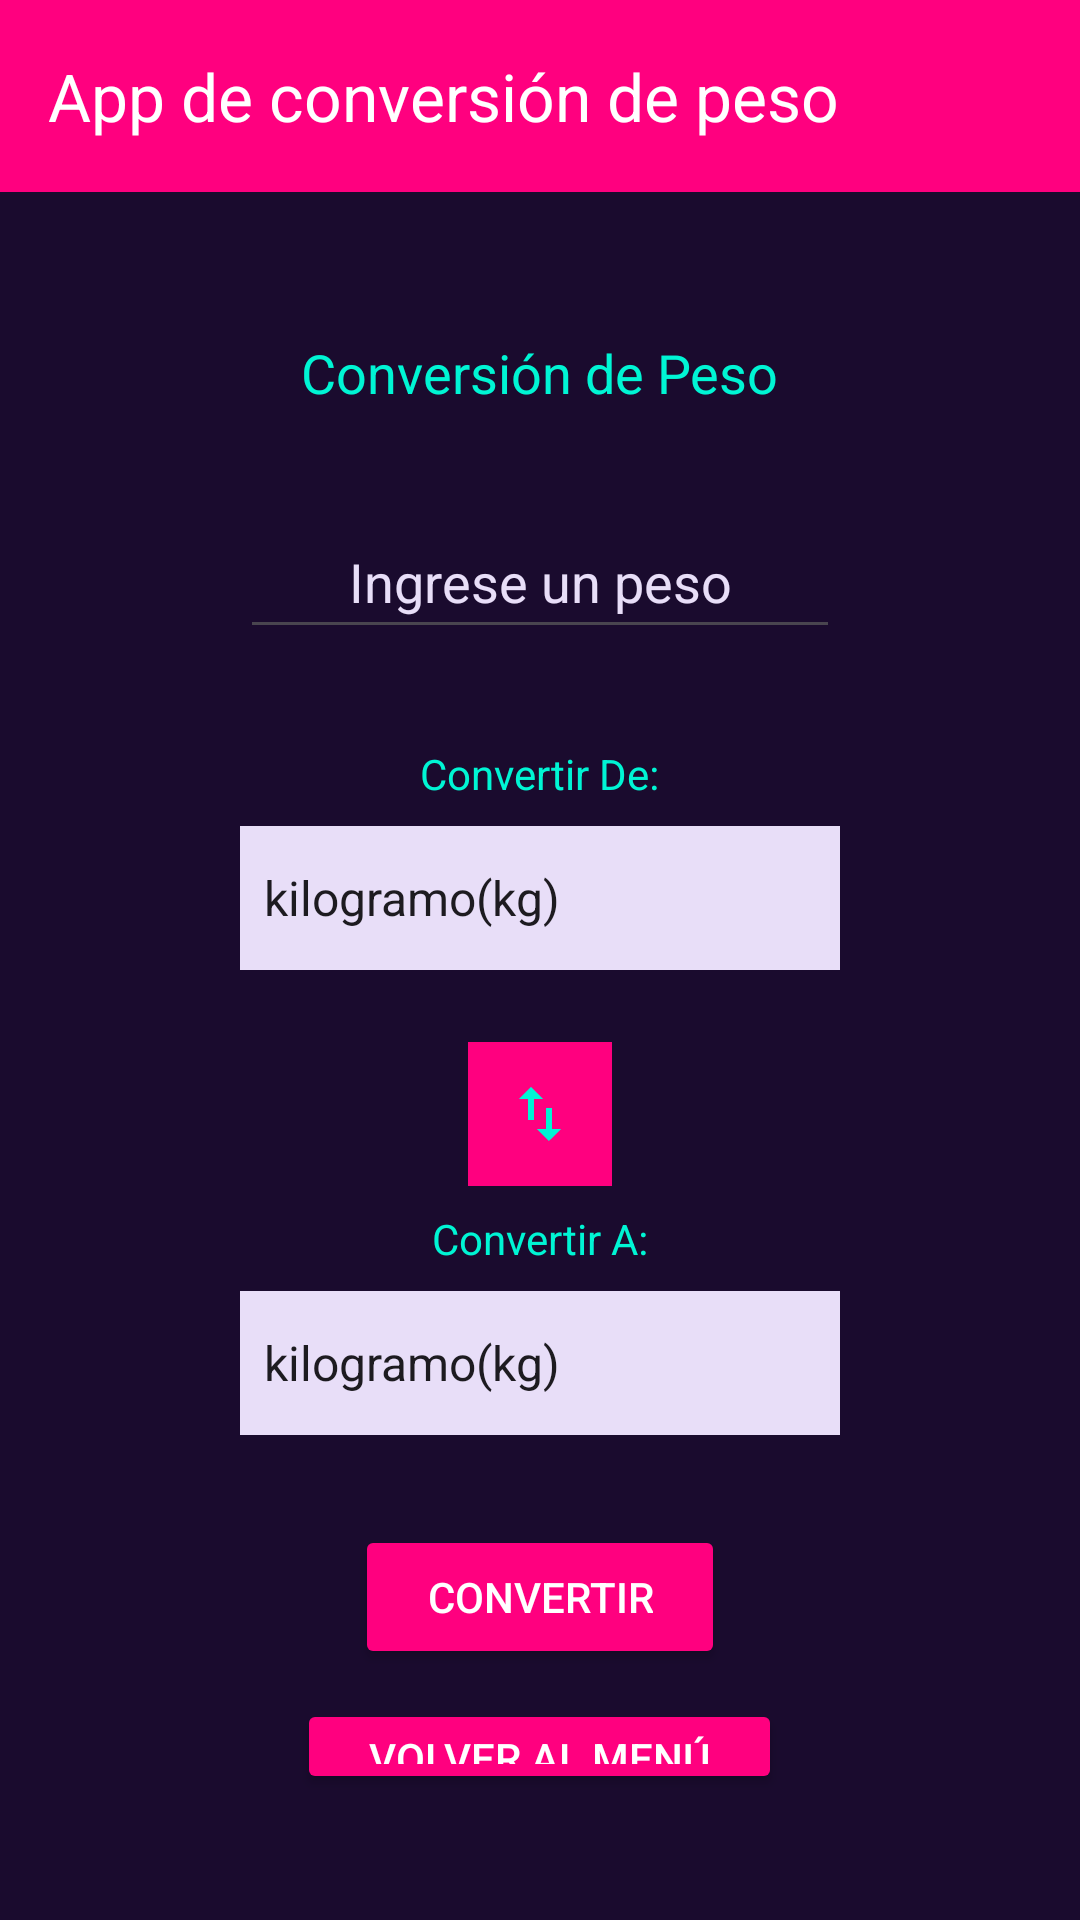

Screen size 1080px×1920px. Icon name, then its center in pixels as (x,y):
Intercambiar unidades: (540,1114)
